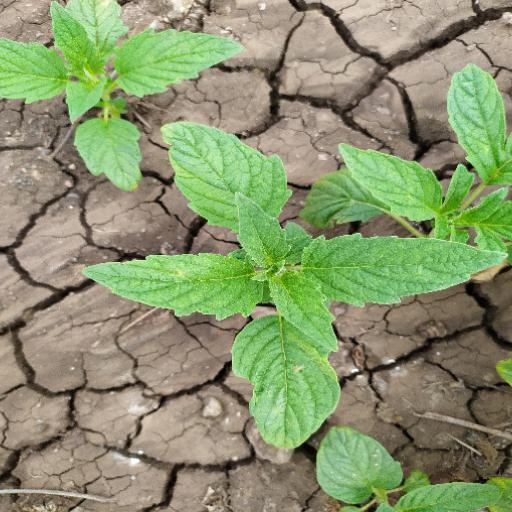crop: (78, 123, 511, 444), (1, 1, 259, 198), (304, 52, 512, 273)
